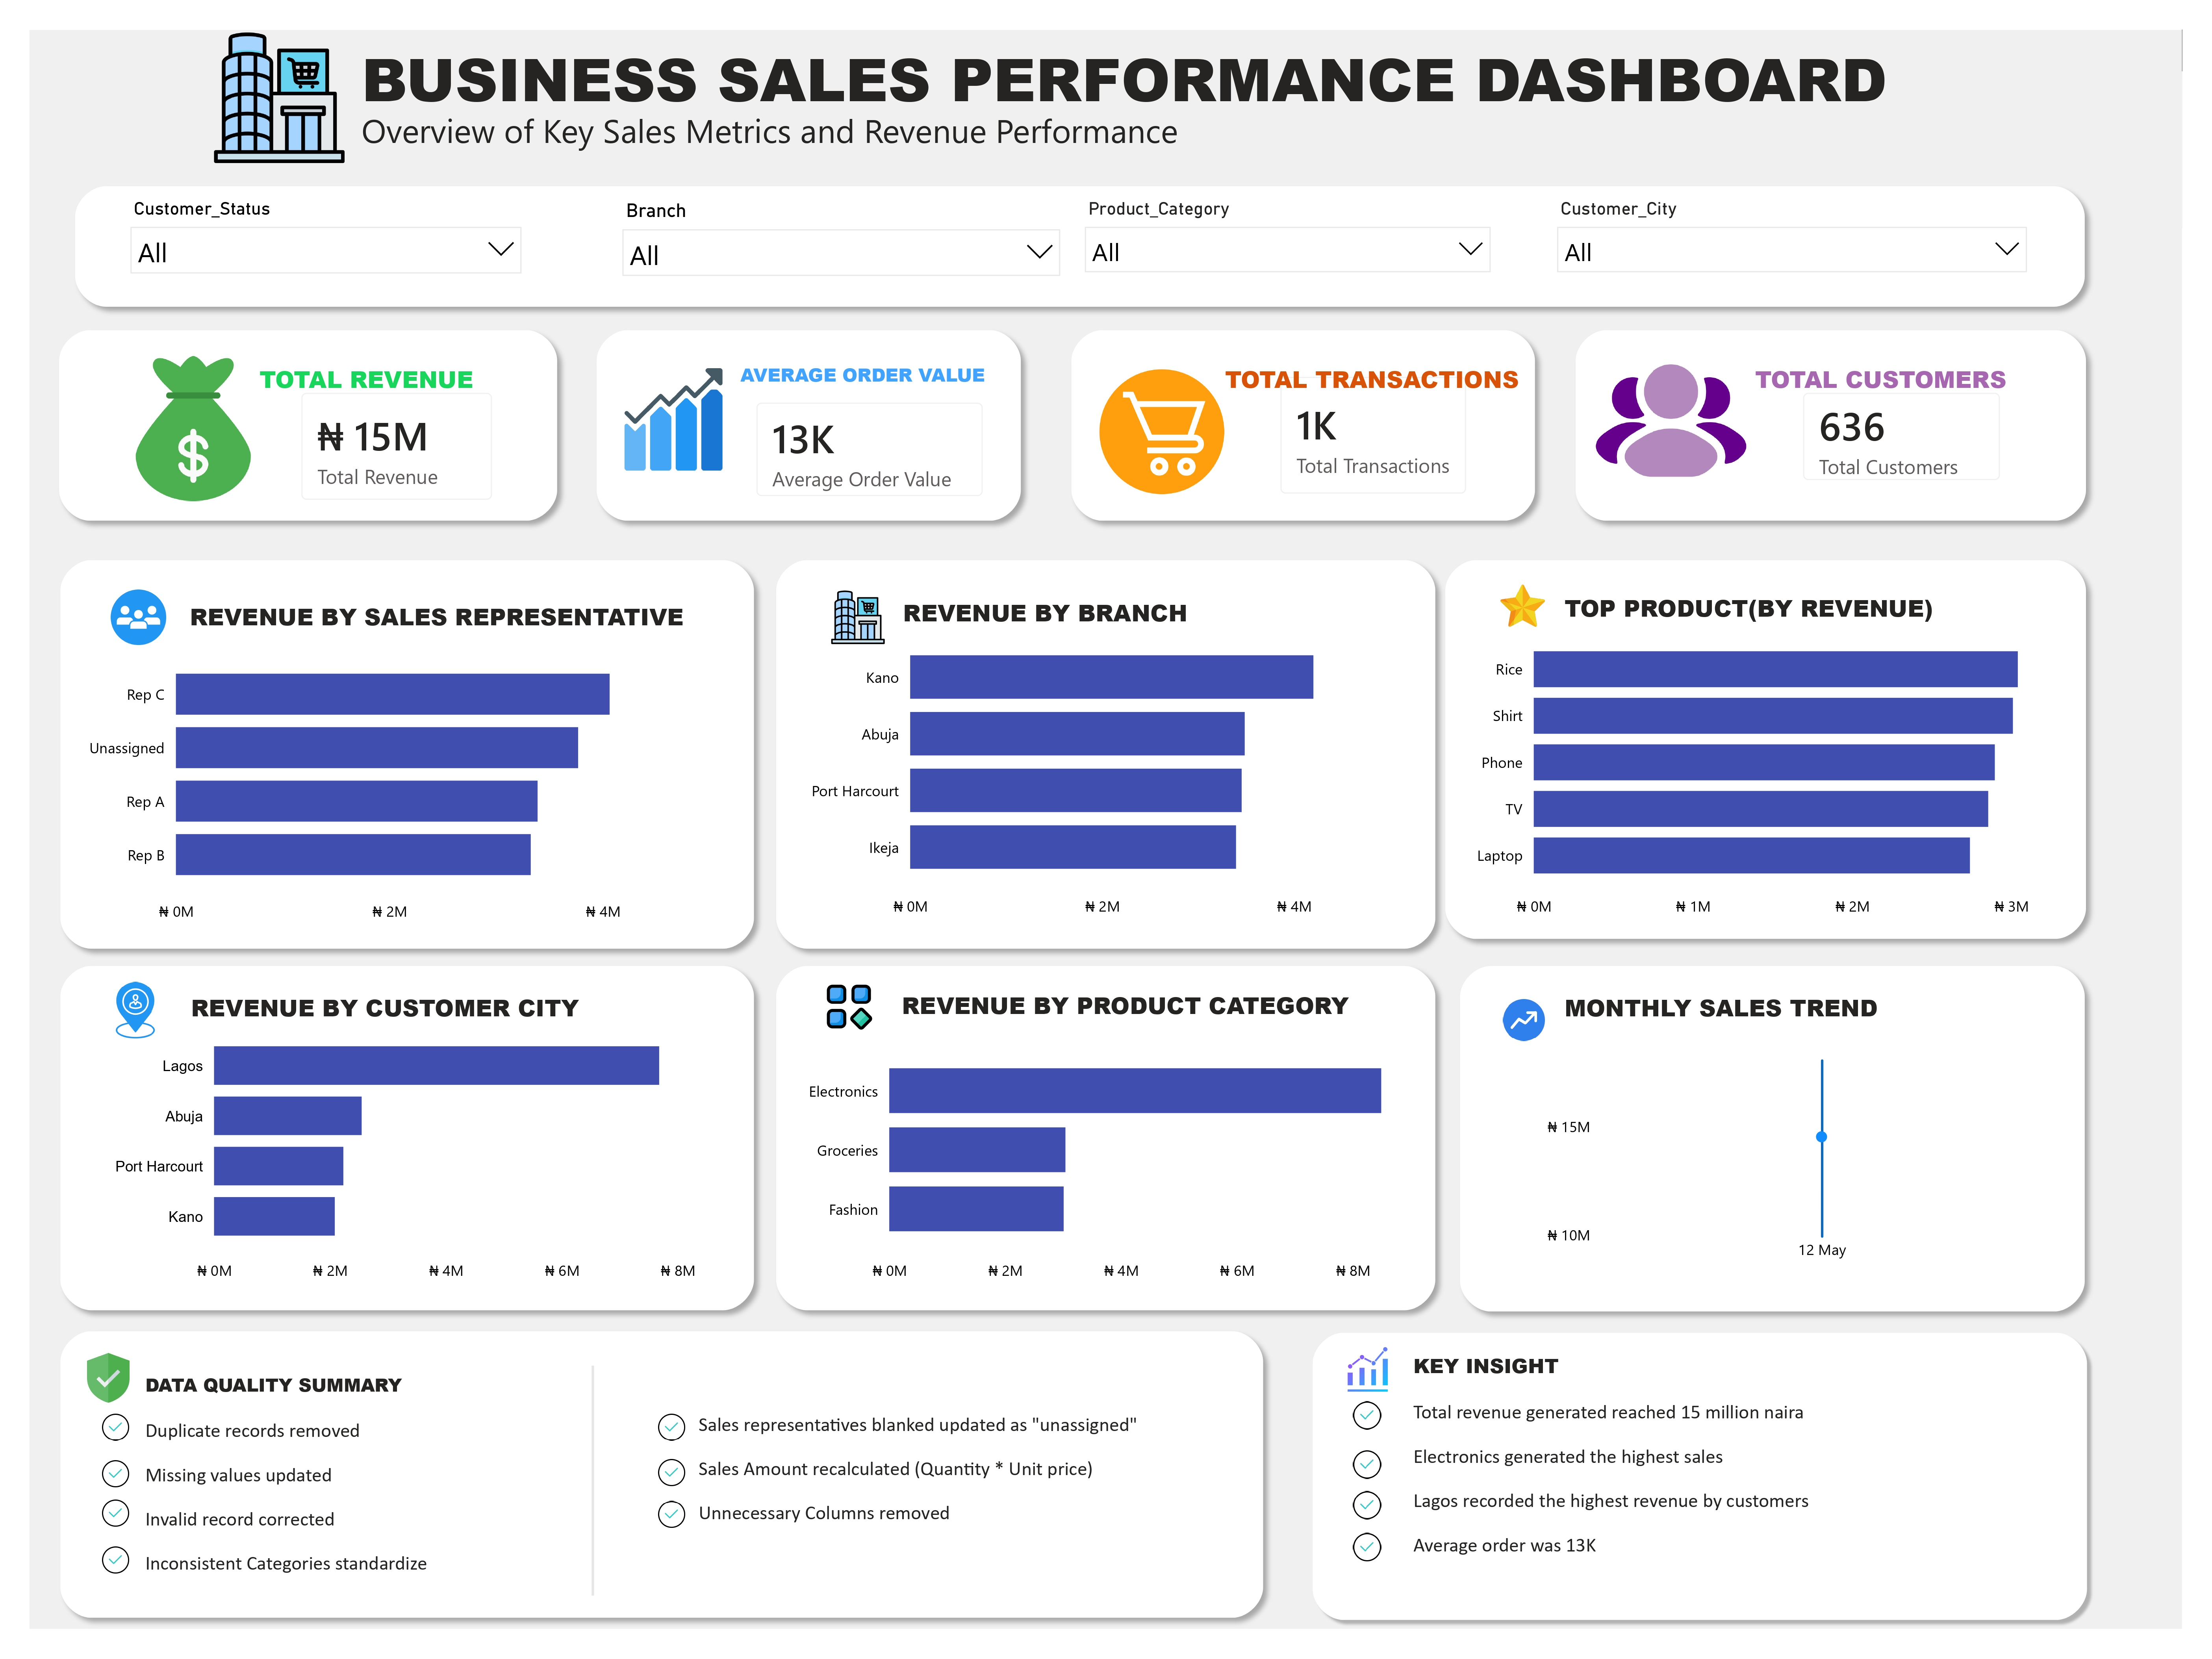

The dashboard page shown, as its layout file describes it:
{"tool":"powerbi","page":{"name":"Page 1","canvas":[1750,1300],"ordinal":0},"visuals":[{"type":"shape","box":[16,1049,996,251],"z":0},{"type":"shape","box":[1154.4,751.9,525.3,298.7],"z":1000},{"type":"shape","box":[598,752,554,298],"z":2000},{"type":"shape","box":[16,752,582,298],"z":3000},{"type":"shape","box":[1141.8,421.5,539.2,326.6],"z":4000},{"type":"shape","box":[598,422,554,334],"z":5000},{"type":"shape","box":[15.6,422.2,582.2,333.3],"z":6000},{"type":"shape","box":[838.5,234.6,394.2,173.1],"z":7000},{"type":"shape","box":[1248.1,234.6,432.7,173.1],"z":8000},{"type":"shape","box":[451.9,234.6,363.5,173.1],"z":9000},{"type":"shape","box":[15.4,234.6,423.1,173.1],"z":10000},{"type":"shape","box":[28,118,1652,116],"z":11000},{"type":"cardVisual","fields":{"Data":["Cleaned_Business_Sales_Data.Total Revenue"]},"box":[203.6,278.2,189.1,121.8],"z":12000},{"type":"cardVisual","fields":{"Data":["Cleaned_Business_Sales_Data.Total Transactions"]},"box":[1000,265.5,185.5,129.1],"z":13000},{"type":"cardVisual","fields":{"Data":["Cleaned_Business_Sales_Data.Total Customer"]},"box":[1425.5,278.2,194.5,105.5],"z":14000},{"type":"cardVisual","fields":{"Data":["Cleaned_Business_Sales_Data.Average Order Value"]},"box":[574,286,218,110],"z":15000},{"type":"clusteredBarChart","fields":{"Category":["Cleaned_Business_Sales_Data.Branch"],"Y":["Cleaned_Business_Sales_Data.Total Revenue"]},"box":[623.2,476.8,503,254.5],"z":16000},{"type":"clusteredBarChart","fields":{"Category":["Cleaned_Business_Sales_Data.Product_Name"],"Y":["Cleaned_Business_Sales_Data.Total Revenue"]},"box":[1167.7,476.8,528.3,254.5],"z":17000},{"type":"clusteredBarChart","fields":{"Category":["Cleaned_Business_Sales_Data.Product_Category_New"],"Y":["Cleaned_Business_Sales_Data.Total Revenue"]},"box":[623.2,812.1,496,215.2],"z":18000},{"type":"barChart","fields":{"Category":["Cleaned_Business_Sales_Data.Customer_City"],"Y":["Cleaned_Business_Sales_Data.Total Revenue"]},"box":[56.6,797,490.9,230.3],"z":19000},{"type":"slicer","fields":{"Values":["Cleaned_Business_Sales_Data.Branch"]},"box":[472,132,376,80],"z":20000},{"type":"clusteredBarChart","fields":{"Category":["Cleaned_Business_Sales_Data.Sales_Rep"],"Y":["Cleaned_Business_Sales_Data.Total Revenue"]},"box":[39.4,492.9,533.3,242.4],"z":21000},{"type":"slicer","fields":{"Values":["Cleaned_Business_Sales_Data.Product_Category_New"]},"box":[848,132,350,80],"z":22000},{"type":"slicer","fields":{"Values":["Cleaned_Business_Sales_Data.Customer_City"]},"box":[1232,132,402,80],"z":23000},{"type":"slicer","fields":{"Values":["Cleaned_Business_Sales_Data.Customer_Status"]},"box":[72,132,338,80],"z":24000},{"type":"lineChart","fields":{"Category":["Cleaned_Business_Sales_Data.Order_Date.Variation.Date Hierarchy.Year","Cleaned_Business_Sales_Data.Order_Date.Variation.Date Hierarchy.Quarter","Cleaned_Business_Sales_Data.Order_Date.Variation.Date Hierarchy.Month","Cleaned_Business_Sales_Data.Order_Date.Variation.Date Hierarchy.Day"],"Y":["Cleaned_Business_Sales_Data.Total Revenue"]},"box":[1228.8,825,411.5,184.6],"z":25000},{"type":"textbox","box":[265.4,0,1403.8,88.5],"z":26000},{"type":"textbox","box":[265.4,57.7,888.5,59.6],"z":27000},{"type":"textbox","box":[88.8,1086.2,321.2,186.2],"z":28000},{"type":"image","box":[472.7,274.5,100,83.6],"z":29000},{"type":"image","box":[863.6,274.5,112.7,103.6],"z":30000},{"type":"image","box":[70,265,125,117.5],"z":31000},{"type":"image","box":[100,0,206.2,110],"z":32000},{"type":"image","box":[1263.6,254.5,140,125.5],"z":33000},{"type":"image","box":[634,774,64,40],"z":34000},{"type":"image","box":[1184,450,60,36],"z":35000},{"type":"image","box":[59.1,1106.4,21.8,60],"z":36000},{"type":"image","box":[52,774,68,46],"z":37000},{"type":"image","box":[1197.8,784.4,34.4,41.1],"z":38000},{"type":"image","box":[56.4,454.5,63.6,45.5],"z":39000},{"type":"image","box":[649.1,454.5,49.1,45.5],"z":40000},{"type":"textbox","box":[181.8,265.5,192.7,38.2],"z":41000},{"type":"textbox","box":[572.7,265.5,218.2,38.2],"z":42000},{"type":"textbox","box":[967.3,265.5,261.8,38.2],"z":43000},{"type":"textbox","box":[1398.2,265.5,247.3,38.2],"z":44000},{"type":"textbox","box":[1243.4,450.5,342.4,38.4],"z":45000},{"type":"textbox","box":[699,454.5,366.7,38.4],"z":46000},{"type":"textbox","box":[119.2,457.6,440.4,38.4],"z":47000},{"type":"textbox","box":[120.2,775.8,352.5,38.4],"z":48000},{"type":"textbox","box":[698,773.7,394.9,38.4],"z":49000},{"type":"textbox","box":[1243.4,775.8,278.8,38.4],"z":50000},{"type":"textbox","box":[539.2,1119,381,106.3],"z":51000},{"type":"image","box":[58.6,1143.4,22.2,60.6],"z":52000},{"type":"image","box":[58.6,1181.8,22.2,48.5],"z":53000},{"type":"image","box":[58.6,1218.2,22.2,51.5],"z":54000},{"type":"image","box":[511.4,1119,21.5,34.2],"z":55000},{"type":"image","box":[511.4,1155.7,21.5,34.2],"z":56000},{"type":"image","box":[511.4,1189.9,21.5,34.2],"z":57000},{"type":"image","box":[26.6,1073.4,73.4,45.6],"z":58000},{"type":"shape","box":[392.2,1086.3,131.4,186.3],"z":59000},{"type":"shape","box":[1036,1052,644,248],"z":60000},{"type":"textbox","box":[1120,1052,450,206],"z":61000},{"type":"image","box":[1076.2,1136.2,22.5,60],"z":62000},{"type":"image","box":[1076.2,1175,22.5,48.8],"z":63000},{"type":"image","box":[1076.2,1207.5,22.5,51.2],"z":64000},{"type":"image","box":[1076.2,1096.2,22.5,60],"z":65000},{"type":"image","box":[1058.9,1071.1,57.8,35.6],"z":66000}]}

Visuals, with their boxes on the page's 1750x1300 design canvas (x1, y1, x2, y2). These are canvas units, not pixel positions in the 2212x1659 screenshot, which may show the page scaled, cropped or inside an application window:
shape: [x1=16, y1=1049, x2=1012, y2=1300]
shape: [x1=1154, y1=752, x2=1680, y2=1051]
shape: [x1=598, y1=752, x2=1152, y2=1050]
shape: [x1=16, y1=752, x2=598, y2=1050]
shape: [x1=1142, y1=422, x2=1681, y2=748]
shape: [x1=598, y1=422, x2=1152, y2=756]
shape: [x1=16, y1=422, x2=598, y2=756]
shape: [x1=838, y1=235, x2=1233, y2=408]
shape: [x1=1248, y1=235, x2=1681, y2=408]
shape: [x1=452, y1=235, x2=815, y2=408]
shape: [x1=15, y1=235, x2=438, y2=408]
shape: [x1=28, y1=118, x2=1680, y2=234]
cardVisual - Cleaned_Business_Sales_Data.Total Revenue: [x1=204, y1=278, x2=393, y2=400]
cardVisual - Cleaned_Business_Sales_Data.Total Transactions: [x1=1000, y1=266, x2=1186, y2=395]
cardVisual - Cleaned_Business_Sales_Data.Total Customer: [x1=1426, y1=278, x2=1620, y2=384]
cardVisual - Cleaned_Business_Sales_Data.Average Order Value: [x1=574, y1=286, x2=792, y2=396]
clusteredBarChart - Cleaned_Business_Sales_Data.Branch x Cleaned_Business_Sales_Data.Total Revenue: [x1=623, y1=477, x2=1126, y2=731]
clusteredBarChart - Cleaned_Business_Sales_Data.Product_Name x Cleaned_Business_Sales_Data.Total Revenue: [x1=1168, y1=477, x2=1696, y2=731]
clusteredBarChart - Cleaned_Business_Sales_Data.Product_Category_New x Cleaned_Business_Sales_Data.Total Revenue: [x1=623, y1=812, x2=1119, y2=1027]
barChart - Cleaned_Business_Sales_Data.Customer_City x Cleaned_Business_Sales_Data.Total Revenue: [x1=57, y1=797, x2=548, y2=1027]
slicer - Cleaned_Business_Sales_Data.Branch: [x1=472, y1=132, x2=848, y2=212]
clusteredBarChart - Cleaned_Business_Sales_Data.Sales_Rep x Cleaned_Business_Sales_Data.Total Revenue: [x1=39, y1=493, x2=573, y2=735]
slicer - Cleaned_Business_Sales_Data.Product_Category_New: [x1=848, y1=132, x2=1198, y2=212]
slicer - Cleaned_Business_Sales_Data.Customer_City: [x1=1232, y1=132, x2=1634, y2=212]
slicer - Cleaned_Business_Sales_Data.Customer_Status: [x1=72, y1=132, x2=410, y2=212]
lineChart - Cleaned_Business_Sales_Data.Order_Date.Variation.Date Hierarchy.Year x Cleaned_Business_Sales_Data.Order_Date.Variation.Date Hierarchy.Quarter: [x1=1229, y1=825, x2=1640, y2=1010]
textbox: [x1=265, y1=0, x2=1669, y2=88]
textbox: [x1=265, y1=58, x2=1154, y2=117]
textbox: [x1=89, y1=1086, x2=410, y2=1272]
image: [x1=473, y1=274, x2=573, y2=358]
image: [x1=864, y1=274, x2=976, y2=378]
image: [x1=70, y1=265, x2=195, y2=382]
image: [x1=100, y1=0, x2=306, y2=110]
image: [x1=1264, y1=254, x2=1404, y2=380]
image: [x1=634, y1=774, x2=698, y2=814]
image: [x1=1184, y1=450, x2=1244, y2=486]
image: [x1=59, y1=1106, x2=81, y2=1166]
image: [x1=52, y1=774, x2=120, y2=820]
image: [x1=1198, y1=784, x2=1232, y2=826]
image: [x1=56, y1=454, x2=120, y2=500]
image: [x1=649, y1=454, x2=698, y2=500]
textbox: [x1=182, y1=266, x2=374, y2=304]
textbox: [x1=573, y1=266, x2=791, y2=304]
textbox: [x1=967, y1=266, x2=1229, y2=304]
textbox: [x1=1398, y1=266, x2=1646, y2=304]
textbox: [x1=1243, y1=450, x2=1586, y2=489]
textbox: [x1=699, y1=454, x2=1066, y2=493]
textbox: [x1=119, y1=458, x2=560, y2=496]
textbox: [x1=120, y1=776, x2=473, y2=814]
textbox: [x1=698, y1=774, x2=1093, y2=812]
textbox: [x1=1243, y1=776, x2=1522, y2=814]
textbox: [x1=539, y1=1119, x2=920, y2=1225]
image: [x1=59, y1=1143, x2=81, y2=1204]
image: [x1=59, y1=1182, x2=81, y2=1230]
image: [x1=59, y1=1218, x2=81, y2=1270]
image: [x1=511, y1=1119, x2=533, y2=1153]
image: [x1=511, y1=1156, x2=533, y2=1190]
image: [x1=511, y1=1190, x2=533, y2=1224]
image: [x1=27, y1=1073, x2=100, y2=1119]
shape: [x1=392, y1=1086, x2=524, y2=1273]
shape: [x1=1036, y1=1052, x2=1680, y2=1300]
textbox: [x1=1120, y1=1052, x2=1570, y2=1258]
image: [x1=1076, y1=1136, x2=1099, y2=1196]
image: [x1=1076, y1=1175, x2=1099, y2=1224]
image: [x1=1076, y1=1208, x2=1099, y2=1259]
image: [x1=1076, y1=1096, x2=1099, y2=1156]
image: [x1=1059, y1=1071, x2=1117, y2=1107]
